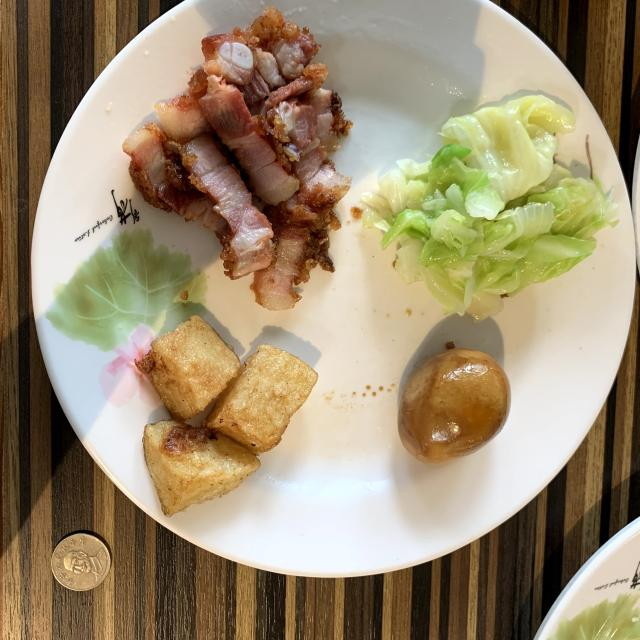cabbage: (362, 96, 615, 320)
coin: (51, 532, 111, 591)
fried potato: (136, 315, 318, 516)
red grilled pork: (122, 6, 351, 310)
soy egg: (398, 349, 510, 462)
